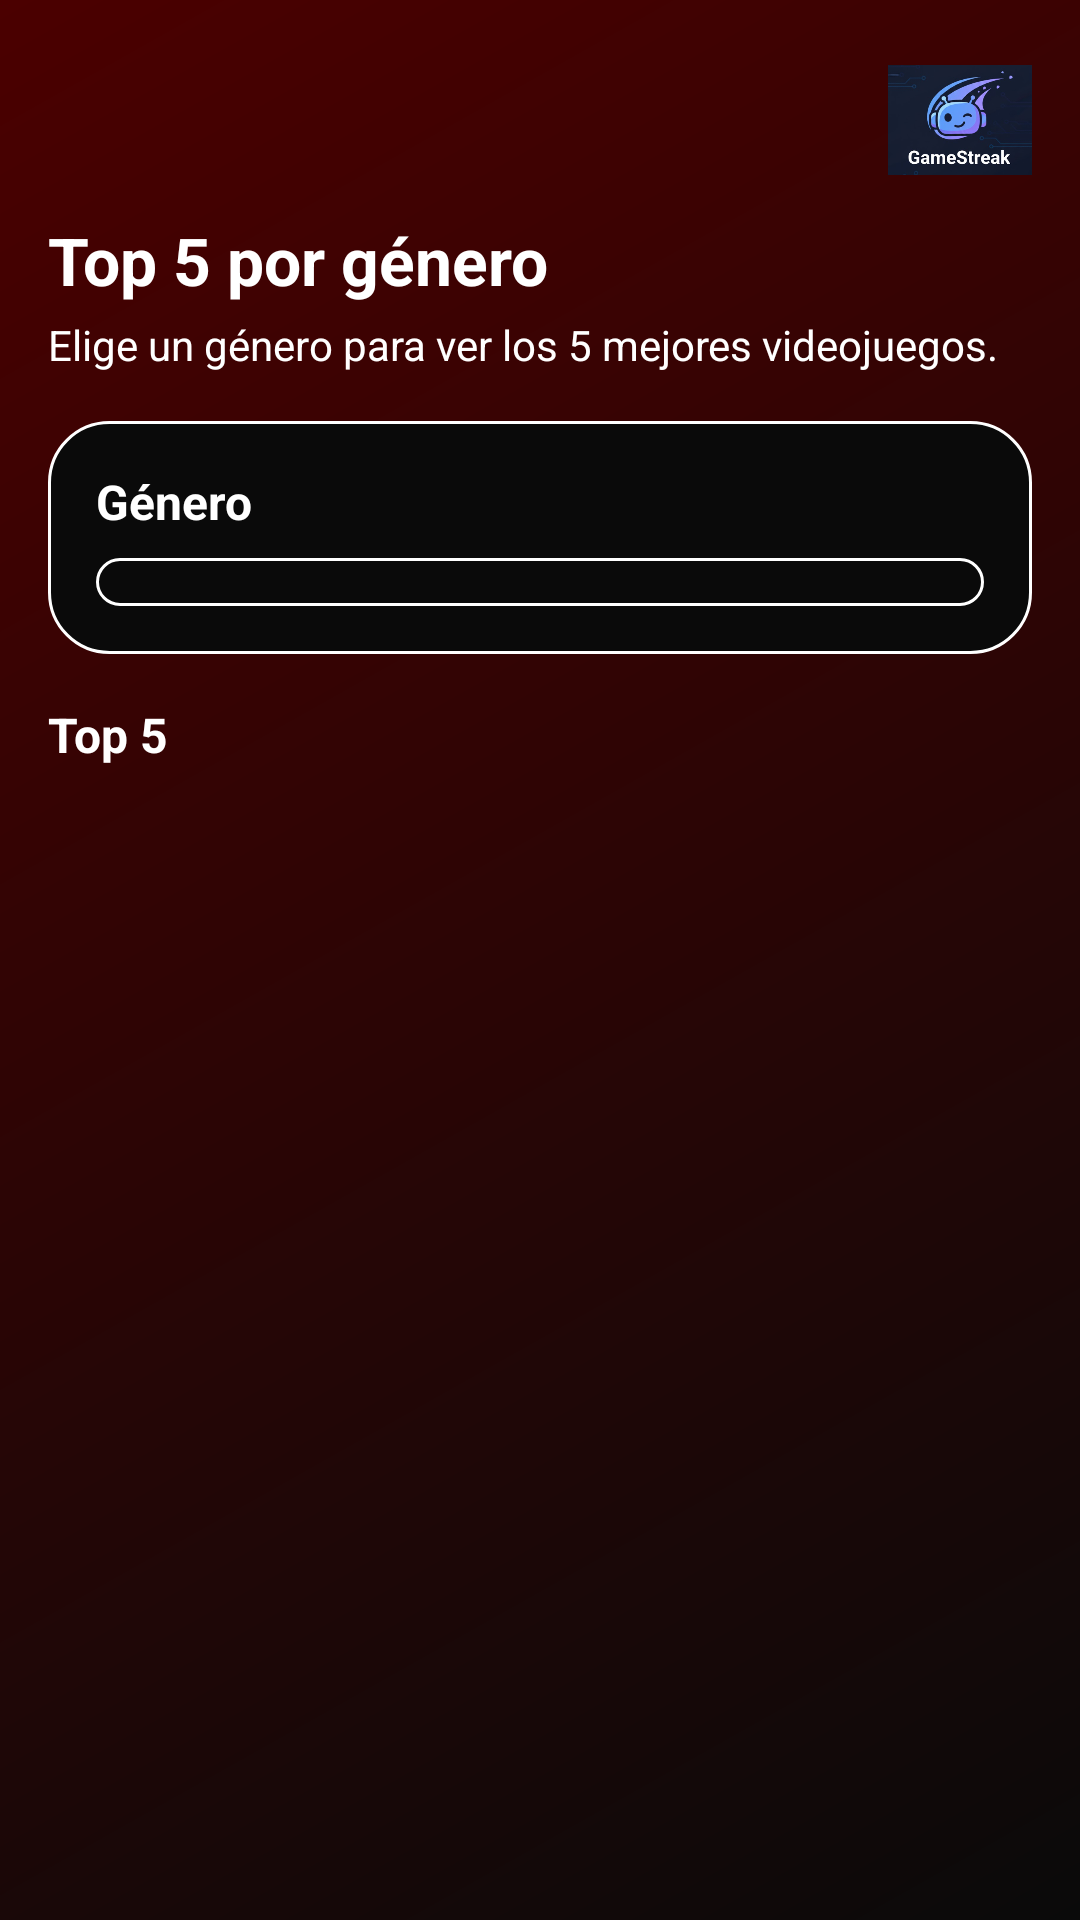

Icon bounding boxes for this 1080×1920 phone screenshot, format region(x1, y1, x2, y2):
loguito: region(888, 65, 1032, 175)
